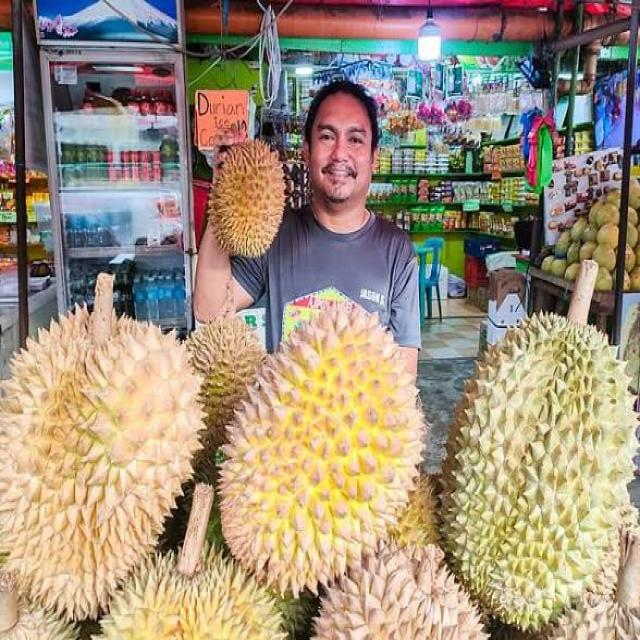mature: (431, 304, 640, 627), (5, 303, 204, 615), (225, 297, 430, 589), (204, 139, 284, 257)
